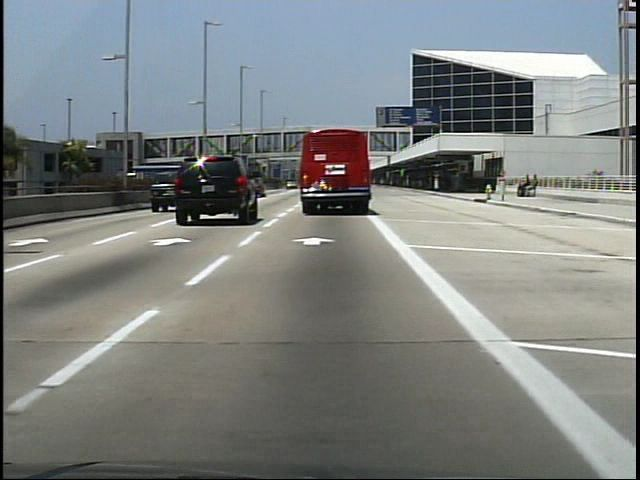car: (294, 129, 373, 216), (176, 153, 257, 221), (152, 168, 181, 209)
strada: (12, 235, 636, 459)
